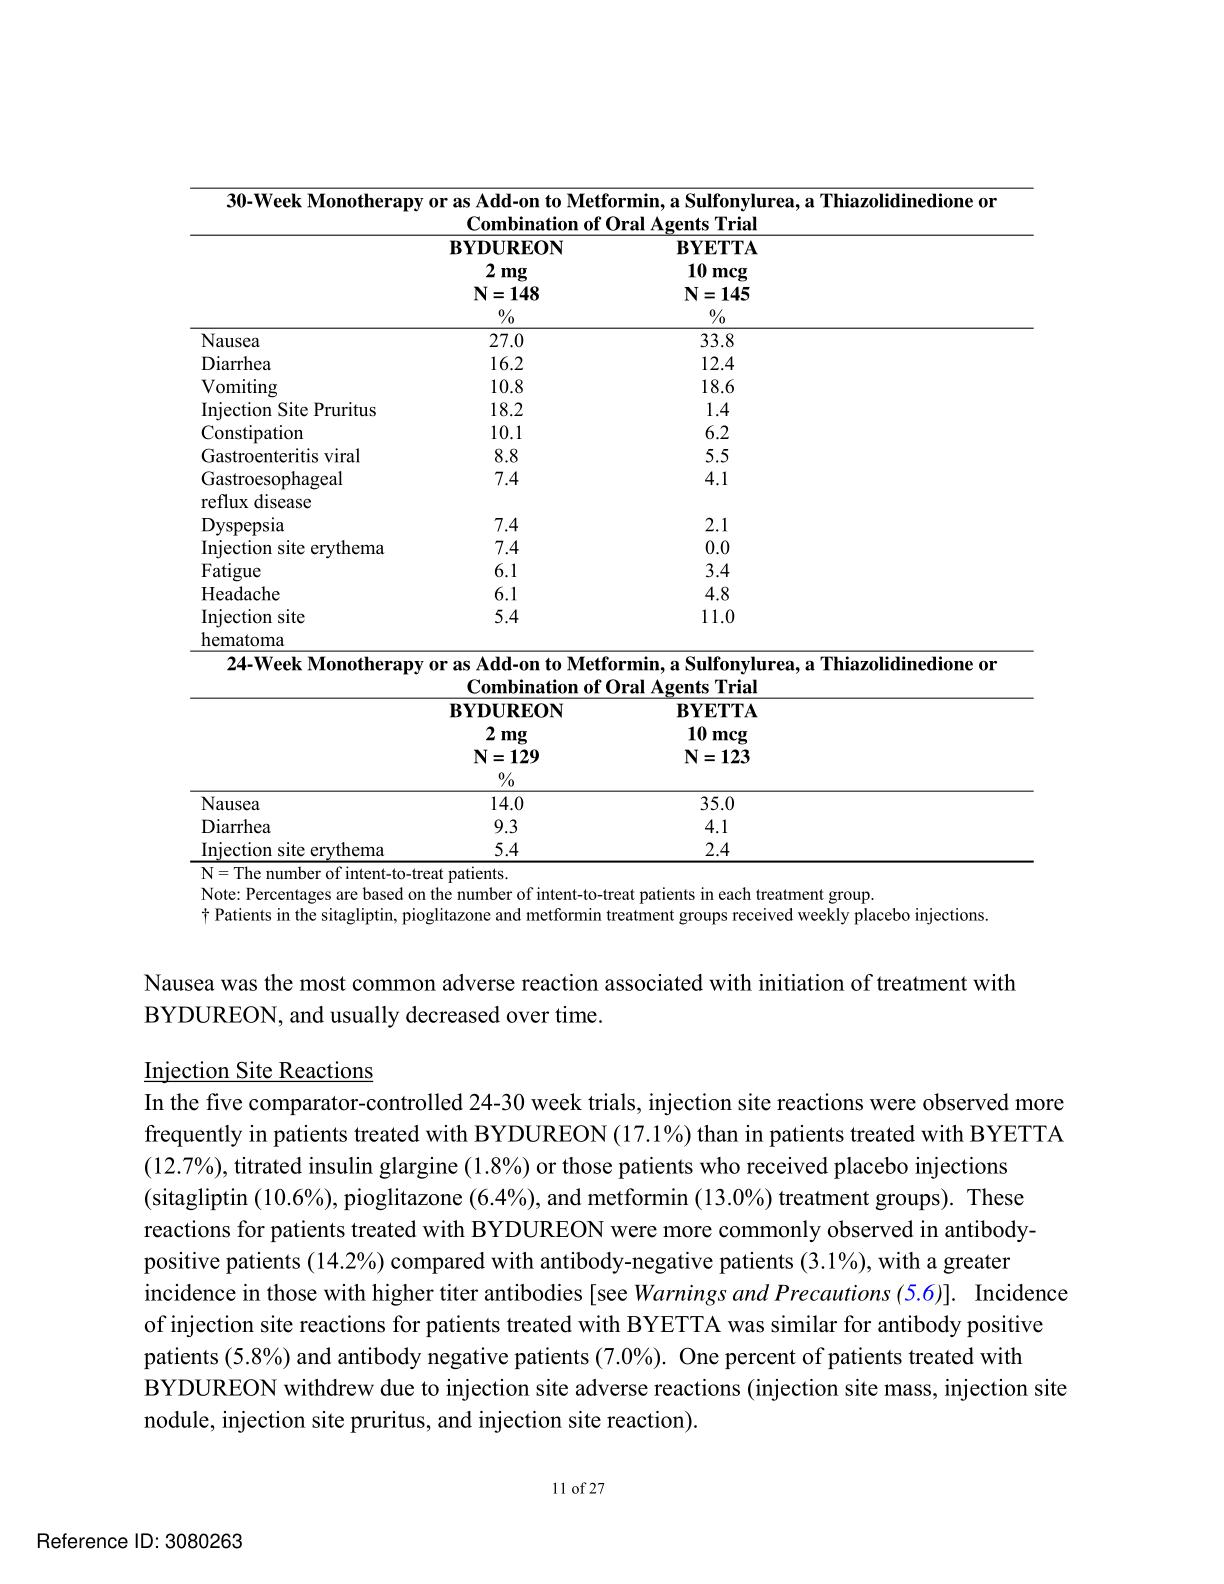partial_lined_merged_cells: (188, 183, 1040, 867)
